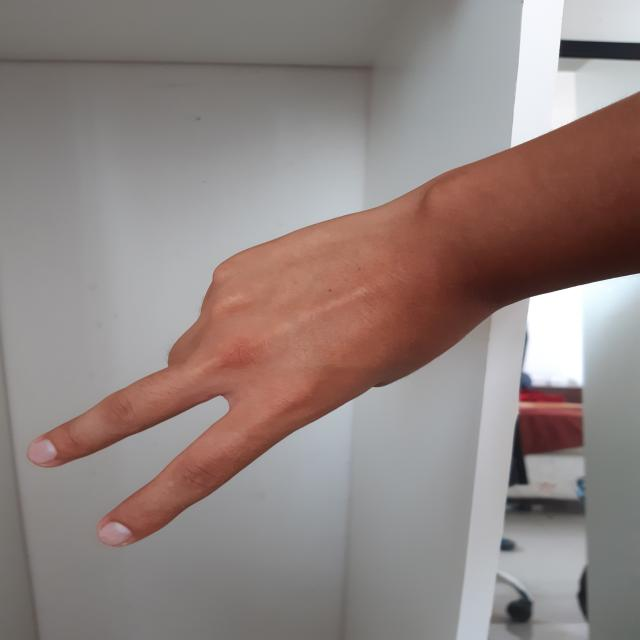EYE: (24, 162, 467, 558)
